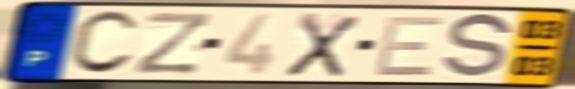4: (220, 12, 279, 78)
C: (65, 9, 142, 78)
E: (370, 14, 448, 79)
S: (439, 11, 516, 82)
X: (281, 11, 364, 79)
Z: (131, 10, 216, 77)
